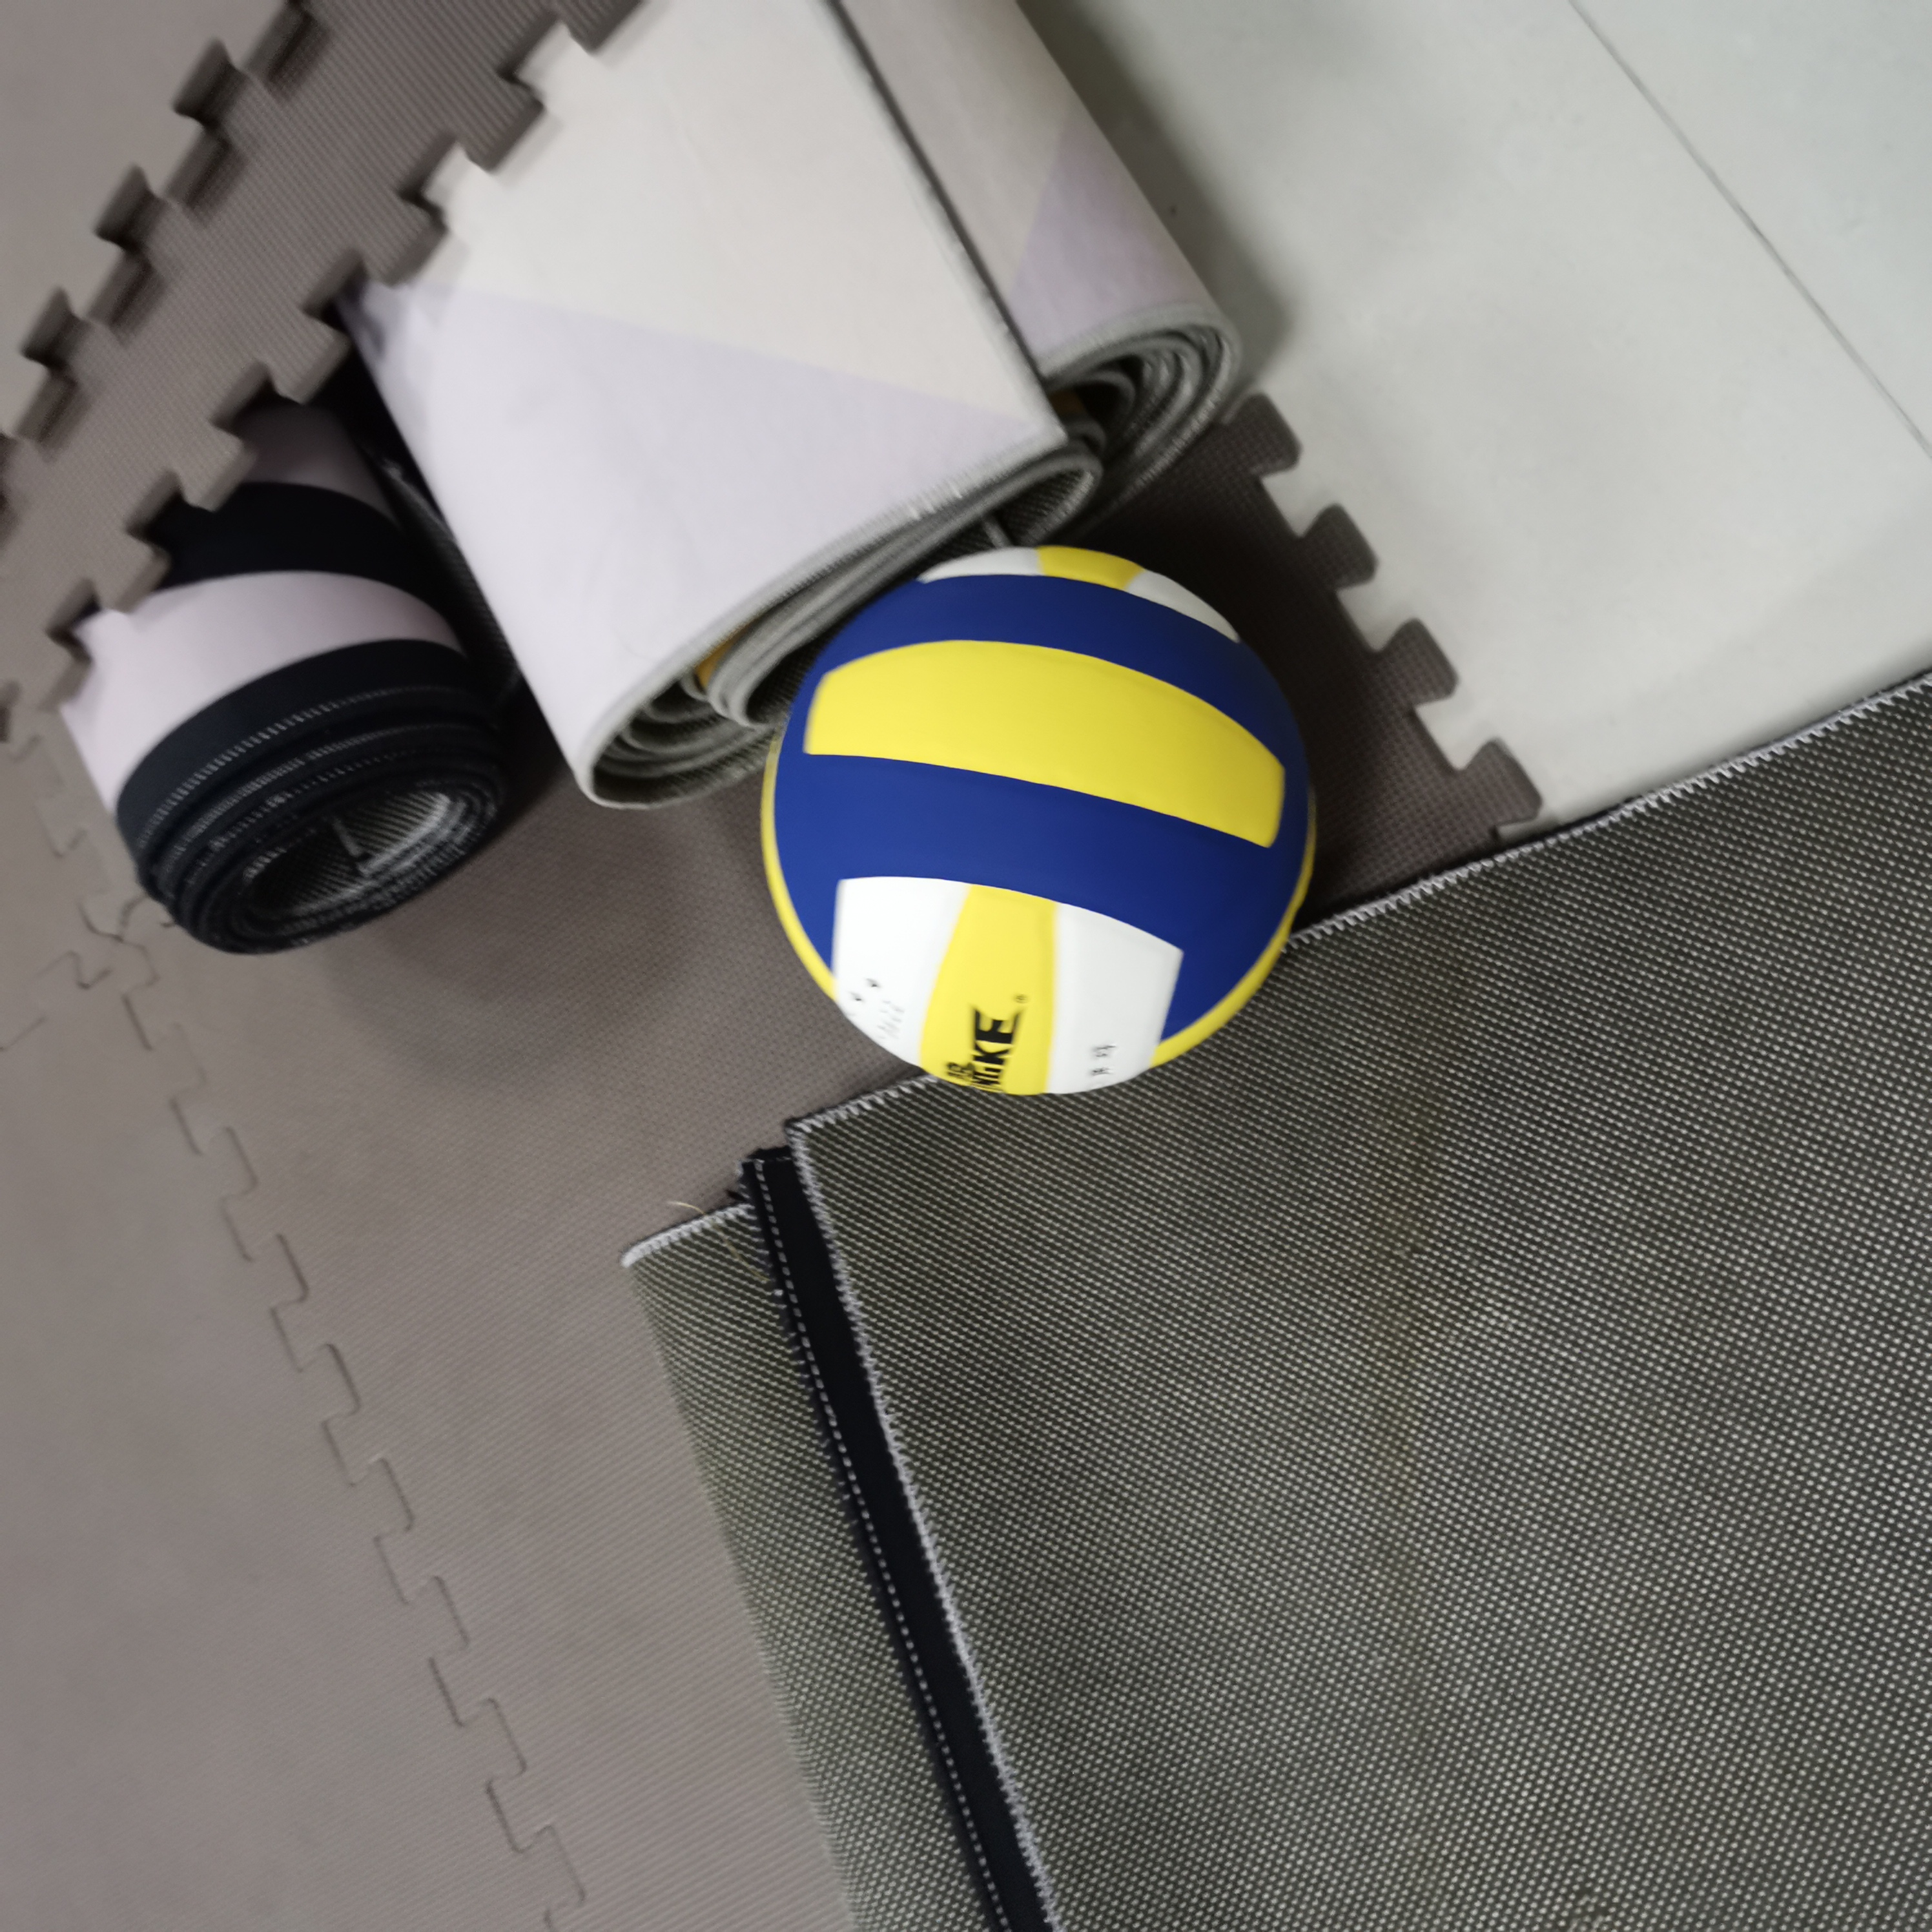volleyball: (757, 540, 1325, 1104)
